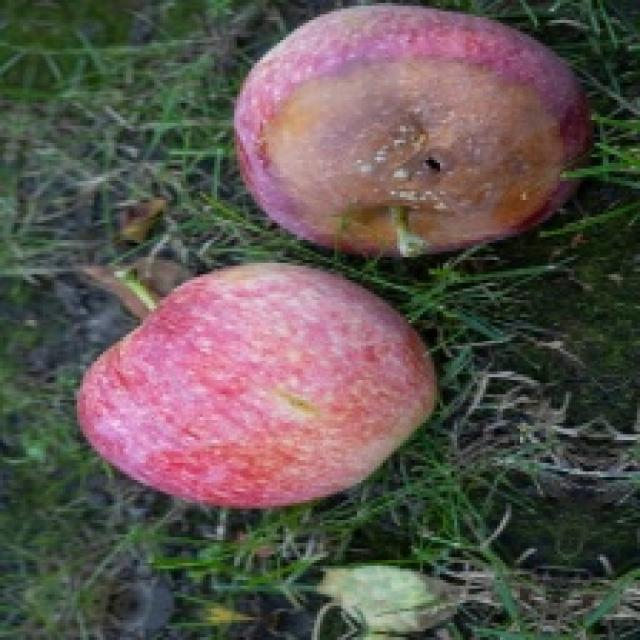100-_ripeness: (83, 257, 436, 509)
rotten_apple: (240, 11, 587, 245)
